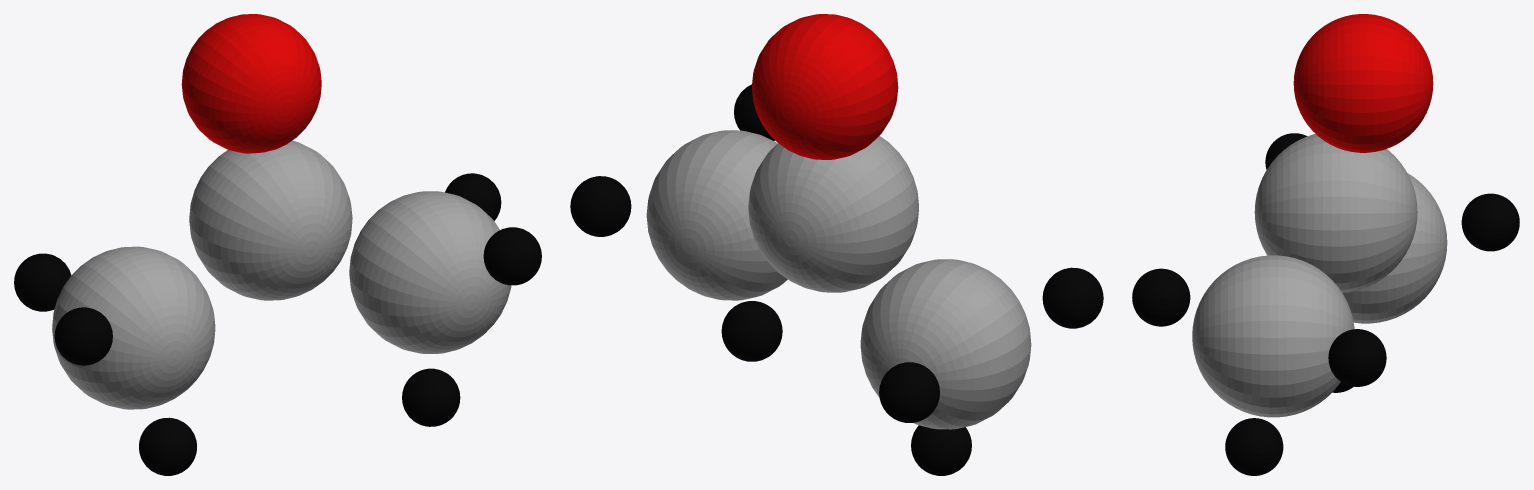
File: Acetone.glb
3 views of the same model, side by side, from view 1: azimuth 30°, elevation 25°; view 2: azimuth 150°, elevation 25°; view 3: azimuth 270°, elevation 25° (orthographic). The views are drawn at different scales.
Parts seen in each view (by area): view 1: world; view 2: world; view 3: world.
Part boxes in pixels (left/top/right/bottom): world: left=14, top=14, right=541, bottom=475; world: left=570, top=14, right=1103, bottom=475; world: left=1132, top=14, right=1519, bottom=475.
Bounding box in the file's own units: 4.65 × 3.96 × 3.33.
